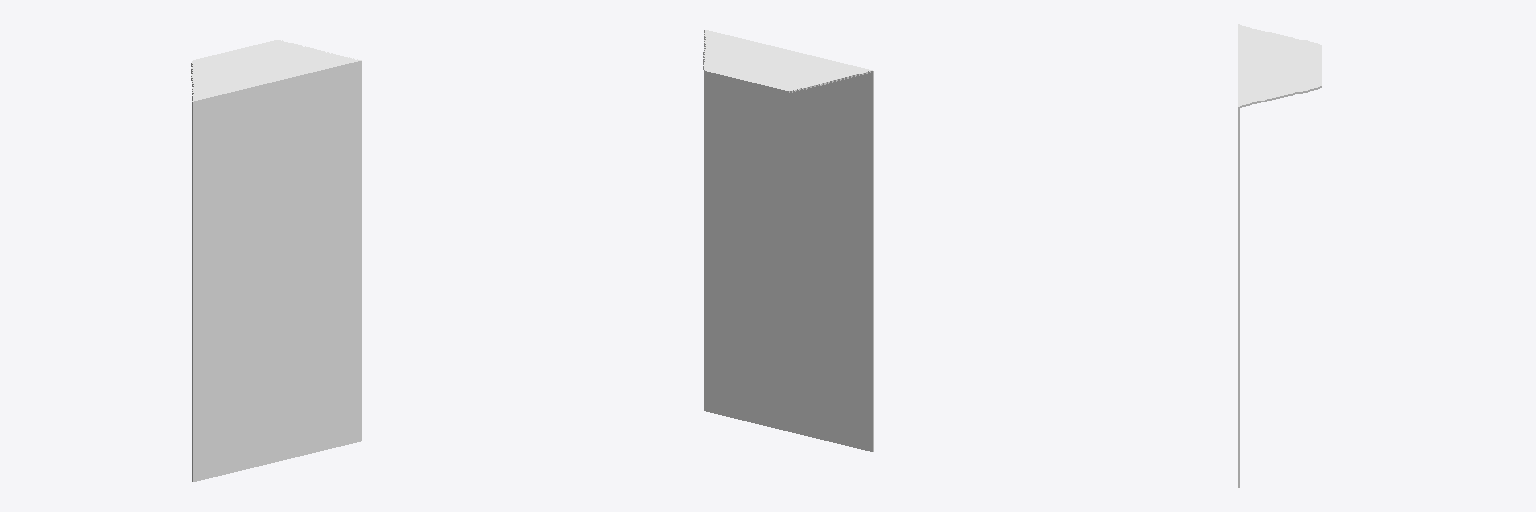
File: stena2.obj
3 views of the same model, side by side, from view 1: azimuth 30°, elevation 25°; view 2: azimuth 150°, elevation 25°; view 3: azimuth 270°, elevation 25° (orthographic).
Visible parts, largest first — view 1: object 1; view 2: object 1; view 3: object 1.
Boxes of the visible parts, <box> form: object 1: <box>191,40,361,481</box>; object 1: <box>703,30,873,451</box>; object 1: <box>1238,24,1321,487</box>.
Bounding box in the file's own units: 9.2 × 19.8 × 4.